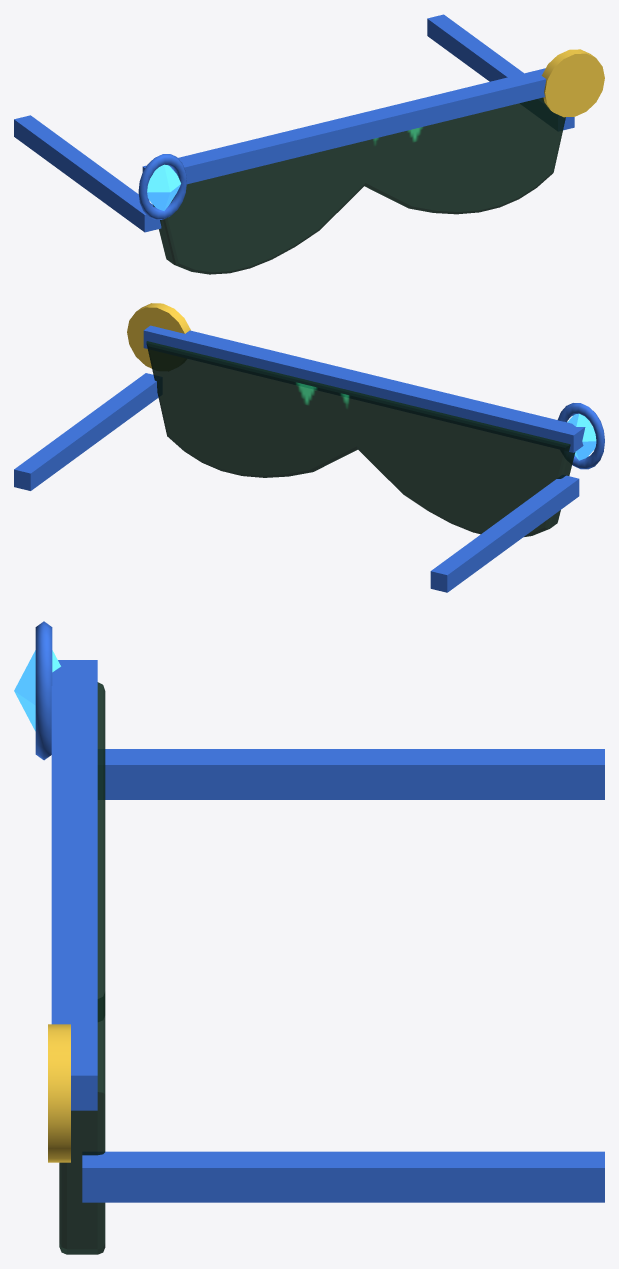
File: gl_eqtz1.glb
3 views of the same model, one above another, from view 1: azimuth 30°, elevation 25°; view 2: azimuth 150°, elevation 25°; view 3: azimuth 270°, elevation 25° (orthographic). The views are drawn at different scales.
Size of the model in its own units: 2.16 by 0.6225 by 1.18.
